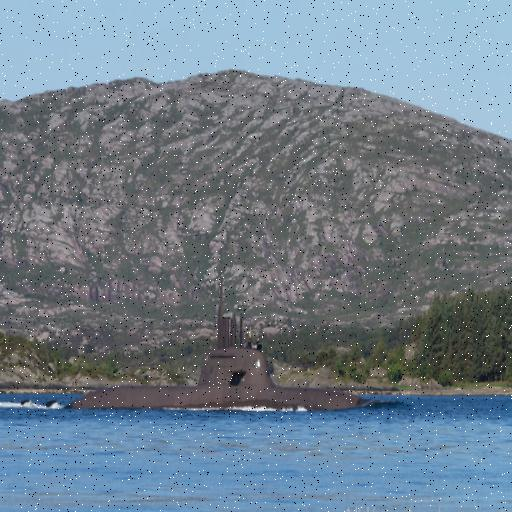submarine: (79, 278, 367, 414)
